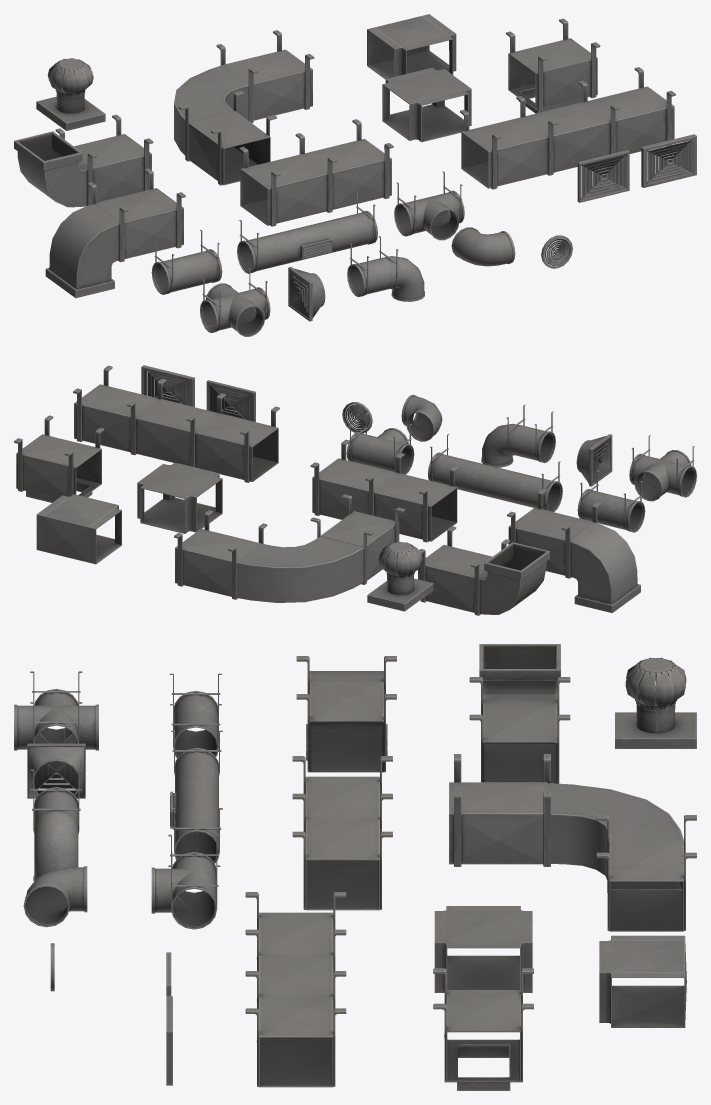
File: Pipes.fbx
The picture shows the model from 3 angles, top to bottom: view 1: azimuth 30°, elevation 25°; view 2: azimuth 150°, elevation 25°; view 3: azimuth 270°, elevation 25°; orthographic projection. The views are drawn at different scales.
Parts seen in each view (by area): view 1: APV_1_Asset_1_6, APV_1_Asset_1_3, APV_1_Asset_1_4, APV_1_Asset_1_5, APV_1_Asset_1_1, APV_1_Asset_1_9, APV_1_Asset_1_7, APV_1_Asset_1_11, APV_1_Asset_1_8, APV_1_Asset_1_2, APV_1_Asset_1_13, APV_1_Asset_1_15 (+7 smaller); view 2: APV_1_Asset_1_3, APV_1_Asset_1_6, APV_1_Asset_1_4, APV_1_Asset_1_5, APV_1_Asset_1_1, APV_1_Asset_1_9, APV_1_Asset_1_8, APV_1_Asset_1_7, APV_1_Asset_1_11, APV_1_Asset_1_2, APV_1_Asset_1_13, APV_1_Asset_1_15 (+7 smaller); view 3: APV_1_Asset_1_3, APV_1_Asset_1_6, APV_1_Asset_1_1, APV_1_Asset_1_5, APV_1_Asset_1_4, APV_1_Asset_1_7, APV_1_Asset_1_8, APV_1_Asset_1_9, APV_1_Asset_1_2, APV_1_Asset_1_11, APV_1_Asset_1_12, APV_1_Asset_1_13 (+4 smaller).
Part boxes in pixels (x1,y1,x2,y2): APV_1_Asset_1_6: (460,67,675,189); APV_1_Asset_1_3: (174,30,314,185); APV_1_Asset_1_4: (45,168,185,298); APV_1_Asset_1_5: (239,119,393,226); APV_1_Asset_1_1: (14,114,153,207); APV_1_Asset_1_9: (506,18,600,113); APV_1_Asset_1_7: (382,67,471,142); APV_1_Asset_1_11: (237,191,377,273); APV_1_Asset_1_8: (367,14,456,79); APV_1_Asset_1_2: (36,58,105,130); APV_1_Asset_1_13: (200,268,270,336); APV_1_Asset_1_15: (347,236,424,301); APV_1_Asset_1_3: (174,494,405,602); APV_1_Asset_1_6: (73,365,279,482); APV_1_Asset_1_4: (507,489,640,613); APV_1_Asset_1_5: (310,439,458,542); APV_1_Asset_1_1: (418,526,549,615); APV_1_Asset_1_9: (14,415,104,502); APV_1_Asset_1_8: (36,494,121,564); APV_1_Asset_1_7: (137,462,222,533); APV_1_Asset_1_11: (428,434,562,511); APV_1_Asset_1_2: (367,541,433,611); APV_1_Asset_1_13: (629,435,696,501); APV_1_Asset_1_15: (481,404,555,467); APV_1_Asset_1_3: (449,754,696,931); APV_1_Asset_1_6: (245,892,346,1087); APV_1_Asset_1_1: (469,644,570,783); APV_1_Asset_1_5: (292,756,392,910); APV_1_Asset_1_4: (296,656,396,772); APV_1_Asset_1_7: (434,906,532,992); APV_1_Asset_1_8: (599,935,686,1027); APV_1_Asset_1_9: (433,968,533,1090); APV_1_Asset_1_2: (615,657,696,748); APV_1_Asset_1_11: (170,730,222,863); APV_1_Asset_1_12: (151,834,220,929); APV_1_Asset_1_13: (14,671,98,750).
Bounding box in the file's own units: 932 × 170 × 693.
Materials: 3 (3 with a texture image).
